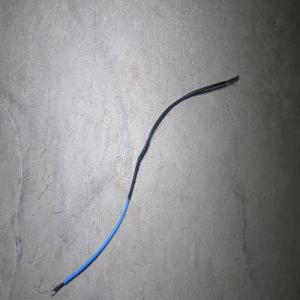Wire: (49, 74, 239, 296)
